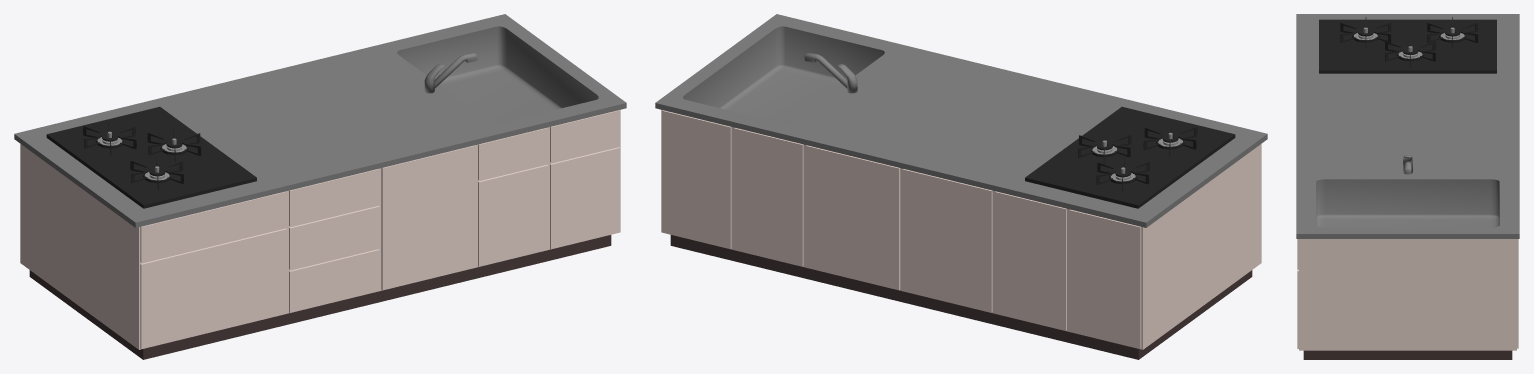
The model's file is kitchen_s3.glb.
3 views of the same model, side by side, from view 1: azimuth 30°, elevation 25°; view 2: azimuth 150°, elevation 25°; view 3: azimuth 270°, elevation 25° (orthographic). The views are drawn at different scales.
Visible parts, largest first — view 1: 調理台.001; view 2: 調理台.001; view 3: 調理台.001.
Boxes of the visible parts, bbox=[...] form: 調理台.001: bbox=[14, 14, 626, 359]; 調理台.001: bbox=[655, 14, 1267, 359]; 調理台.001: bbox=[1296, 14, 1519, 359].
Size of the model in its own units: 2.1 by 0.7 by 0.9.
